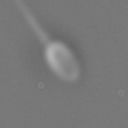normal: (9, 1, 49, 45)
